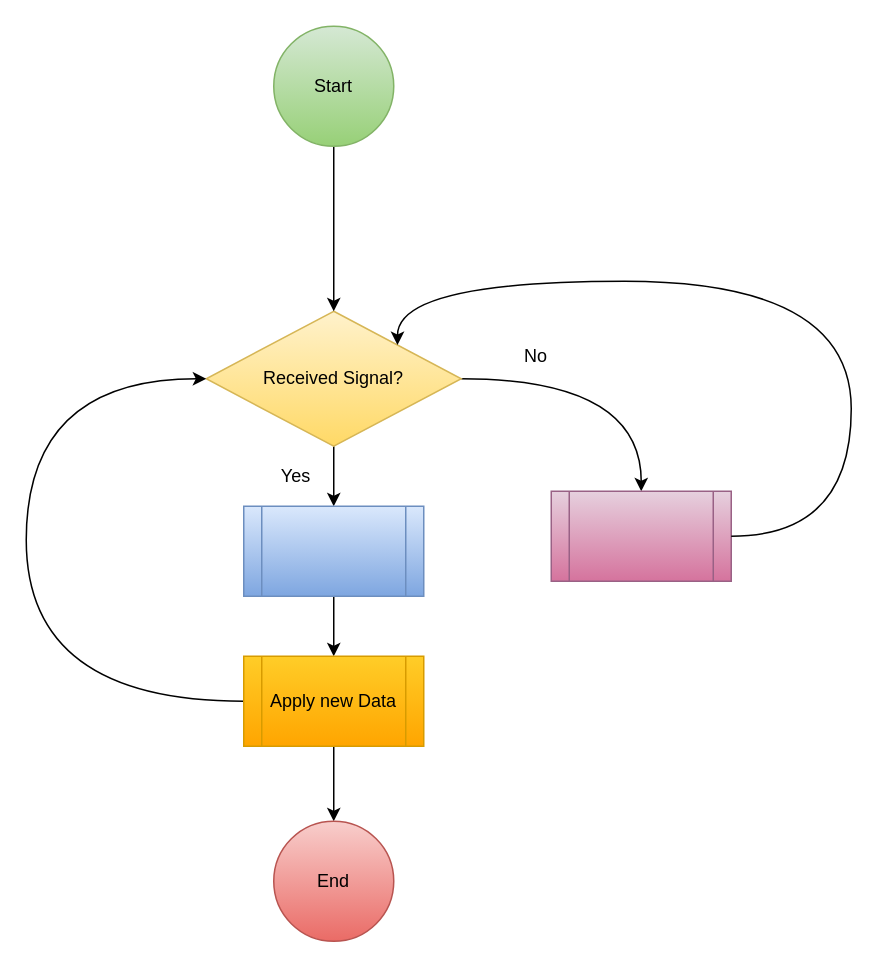
Image size: 878x968. Some labels were removed from this diagram. Here are the shapes that lost their labels. From the top down, the box of each, then its label:
(242, 505, 424, 596): Read Shared Memory
(550, 490, 731, 581): Pause
